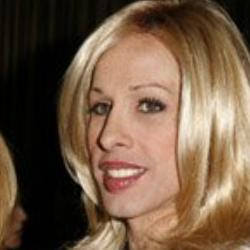face: (40, 5, 249, 238)
